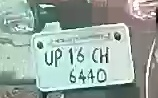0: (95, 65, 108, 84)
1: (67, 46, 76, 66)
4: (77, 68, 86, 86), (86, 69, 95, 84)
6: (66, 65, 79, 83), (74, 45, 85, 65)
C: (91, 47, 99, 66)
H: (98, 46, 111, 64)
P: (54, 48, 63, 70)
U: (45, 49, 54, 69)
